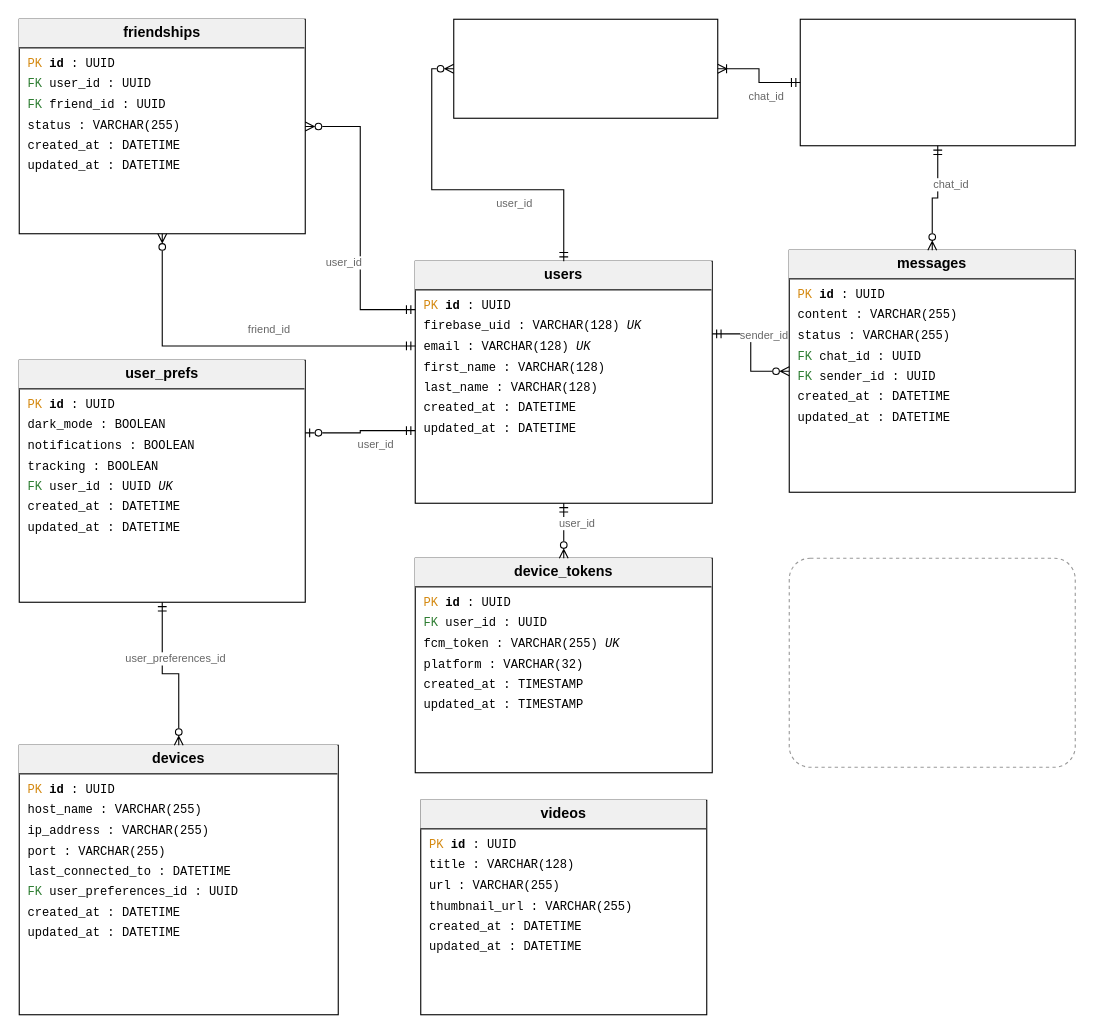
Image size: 1095x1034. Some labels were removed from this diagram. The box of each missing label's shape, as (x1, y1, x2, y2) in pixels:
chat_participants FK chat_id : UUID FK user_id : UUID: (453, 18, 718, 118)
chats PK id : UUID created_at : DATETIME updated_at : DATETIME: (799, 18, 1075, 146)
Legend PK = Primary Key FK = Foreign Key UK = Unique Constraint: (788, 557, 1075, 767)
